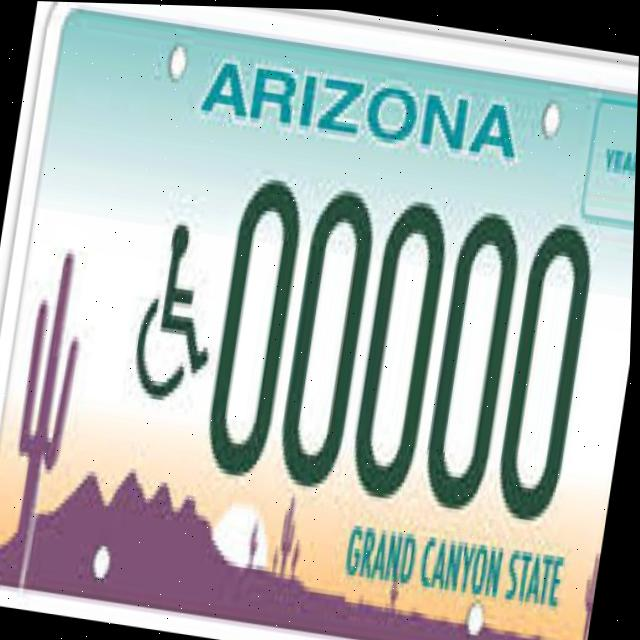symbol_of_access: (122, 198, 237, 420)
